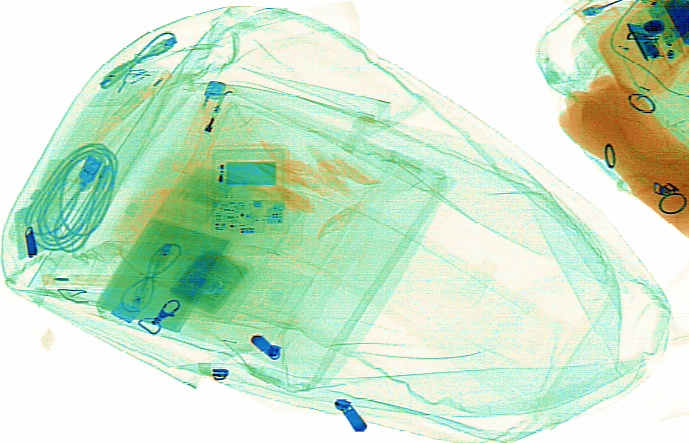lighter: (170, 79, 235, 177)
